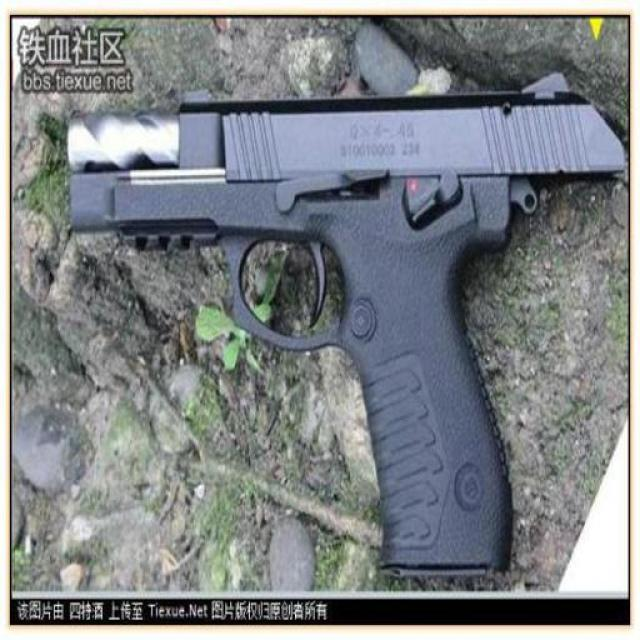pistol: (48, 89, 629, 599)
